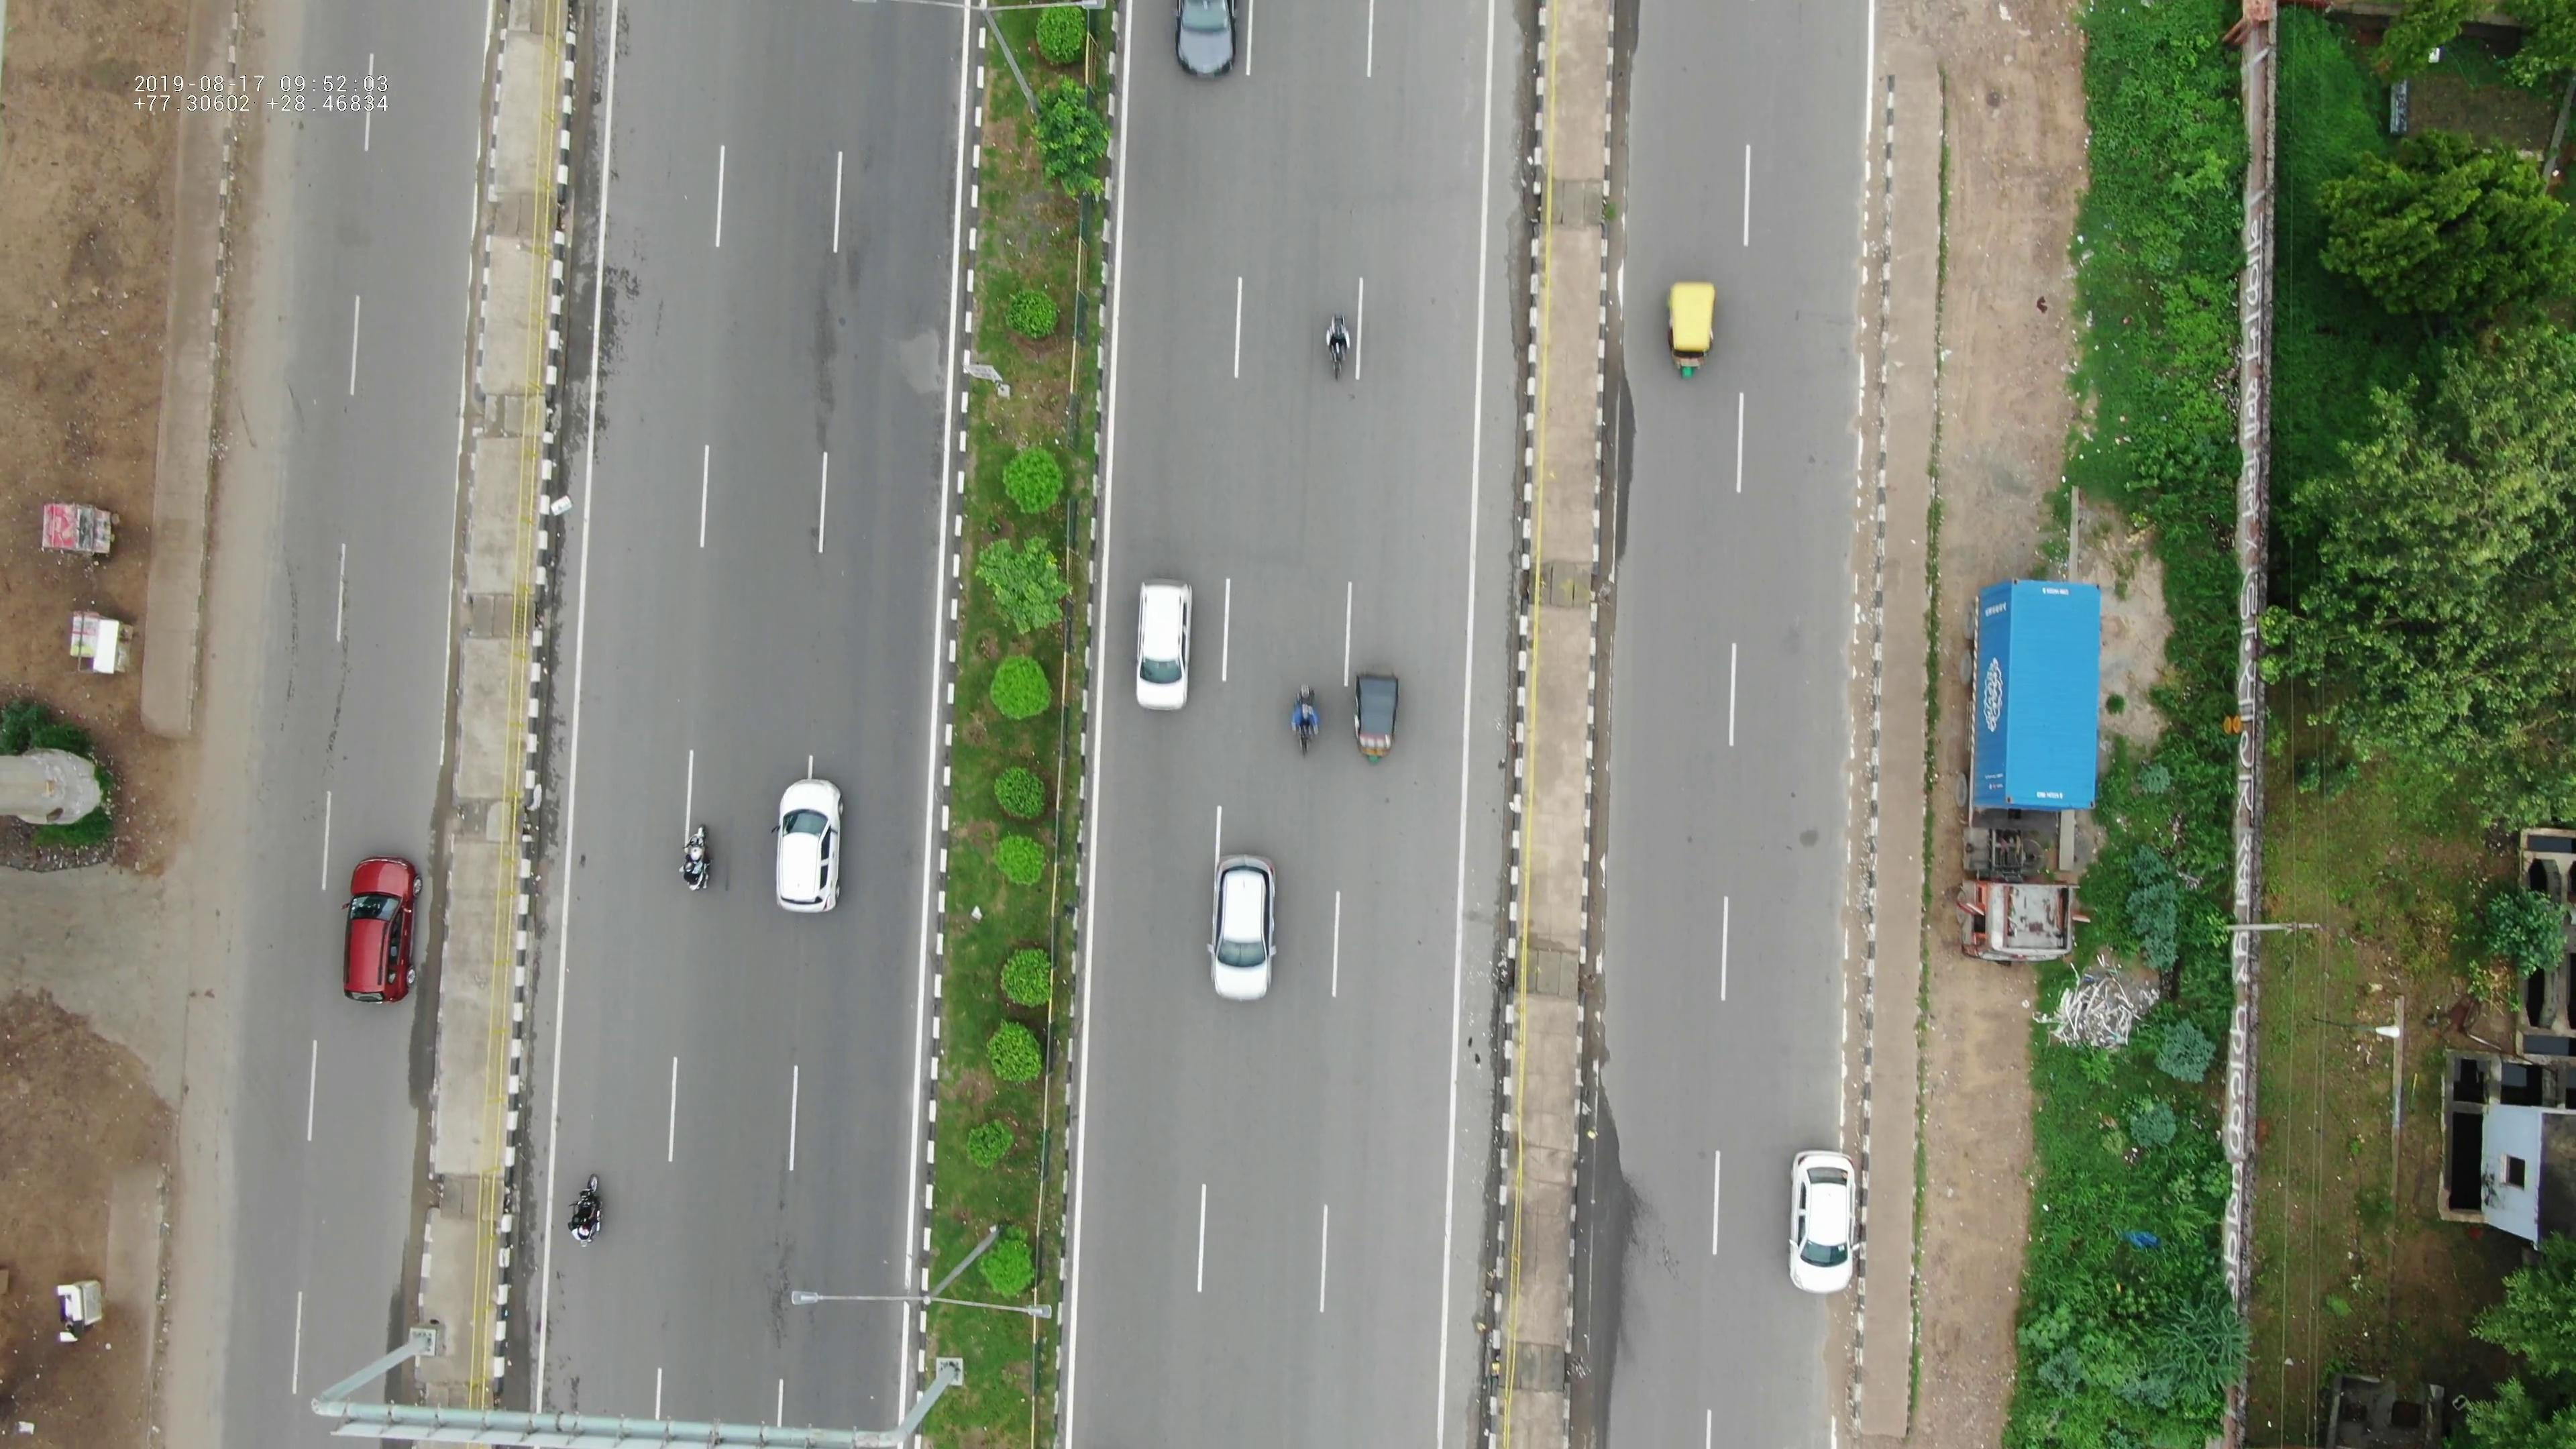Ravelling: (725, 1200, 821, 1346)
